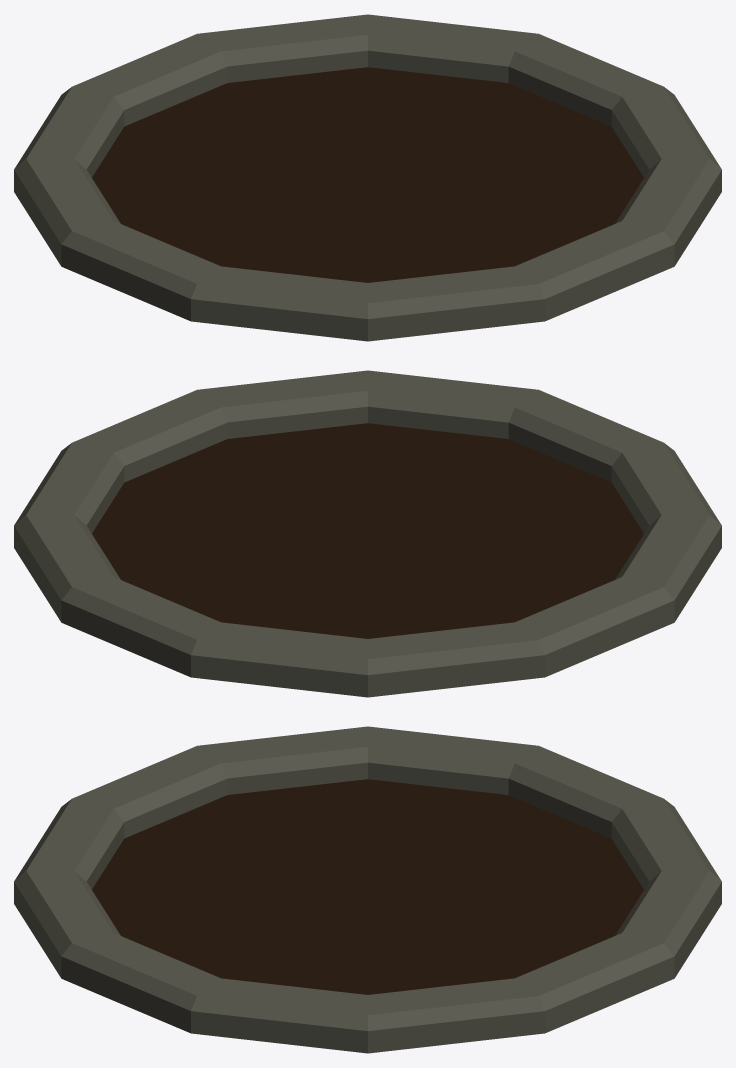
File: prop_gd_flower_bed_4.glb
3 views of the same model, one above another, from view 1: azimuth 30°, elevation 25°; view 2: azimuth 150°, elevation 25°; view 3: azimuth 270°, elevation 25° (orthographic).
Parts seen in each view (by area): view 1: FlowerBed4; view 2: FlowerBed4; view 3: FlowerBed4.
Part boxes in pixels (box(x1,y1,x2,y2)): FlowerBed4: box(14, 14, 721, 341); FlowerBed4: box(14, 370, 721, 697); FlowerBed4: box(14, 726, 721, 1053).
Size of the model in its own units: 4.42 by 0.2278 by 4.42.
